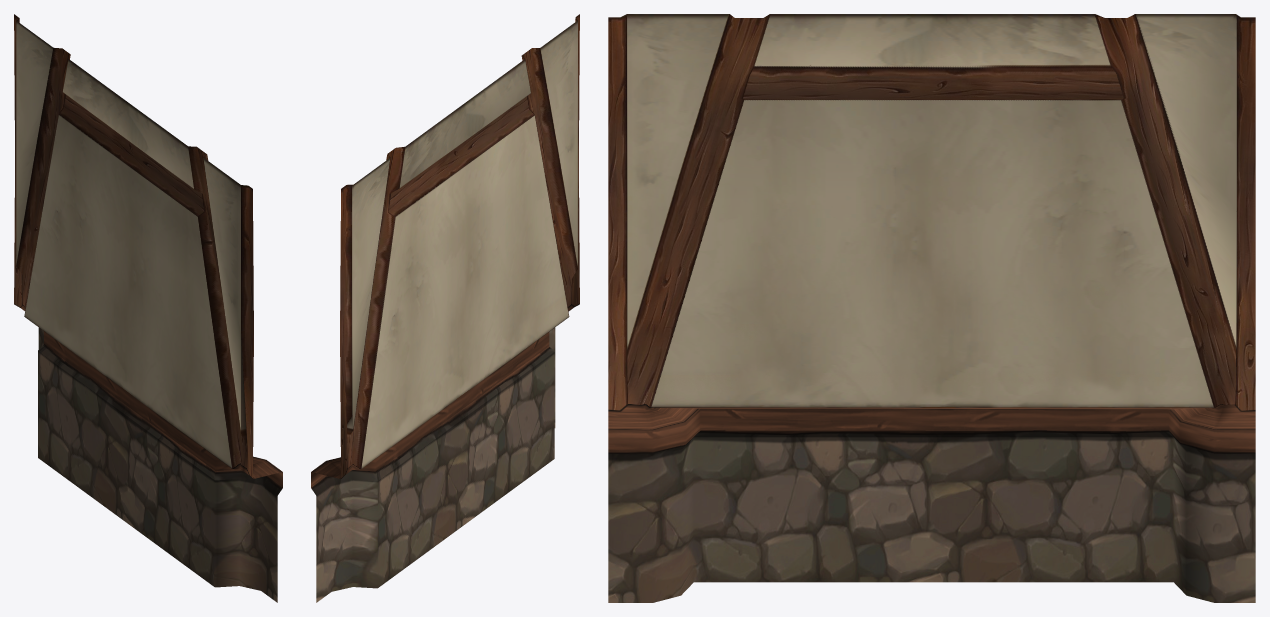
The model's file is Wall_3_B.fbx.
3 views of the same model, side by side, from view 1: azimuth 30°, elevation 25°; view 2: azimuth 150°, elevation 25°; view 3: azimuth 270°, elevation 25° (orthographic). The views are drawn at different scales.
Visible parts, largest first — view 1: pCube7; view 2: pCube7; view 3: pCube7.
Part boxes in pixels (left/top/right/bottom): pCube7: left=14, top=14, right=282, bottom=602; pCube7: left=311, top=14, right=579, bottom=602; pCube7: left=608, top=14, right=1255, bottom=602.
Size of the model in its own units: 0.8803 by 9.7 by 10.
